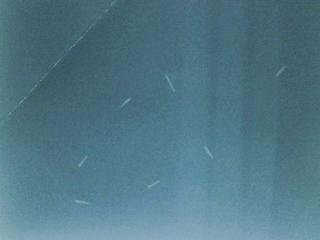crack: (0, 0, 116, 124)
scratch: (163, 71, 177, 94), (200, 143, 213, 161), (272, 63, 287, 78), (76, 153, 90, 169), (144, 179, 161, 192), (118, 96, 132, 109), (73, 198, 90, 206)
